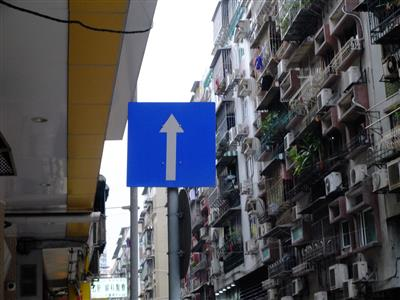oneway: (125, 99, 218, 187)
